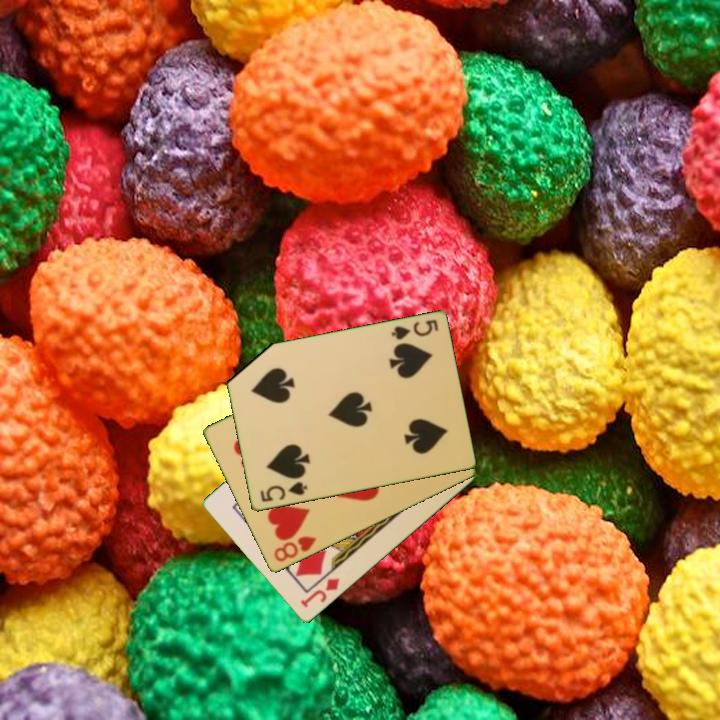5s: (256, 478, 310, 505), (388, 316, 441, 343)
8h: (270, 533, 319, 565)
Jd: (297, 575, 343, 611)
